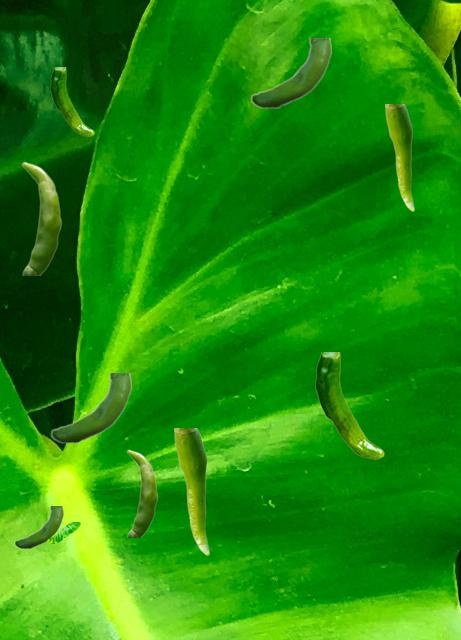green_chili: (315, 352, 383, 458), (50, 373, 130, 443), (250, 38, 330, 108), (21, 161, 61, 274), (174, 428, 208, 554), (385, 104, 413, 210), (50, 67, 93, 135), (126, 449, 157, 536), (14, 506, 62, 548)
